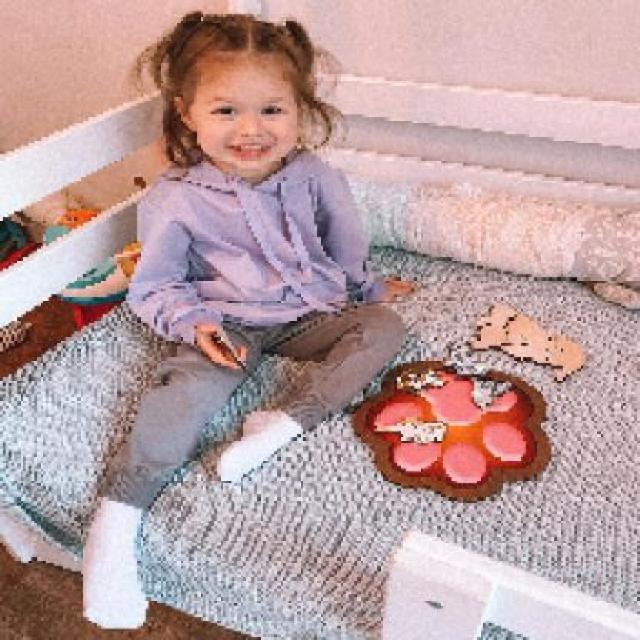child: (80, 10, 409, 630)
